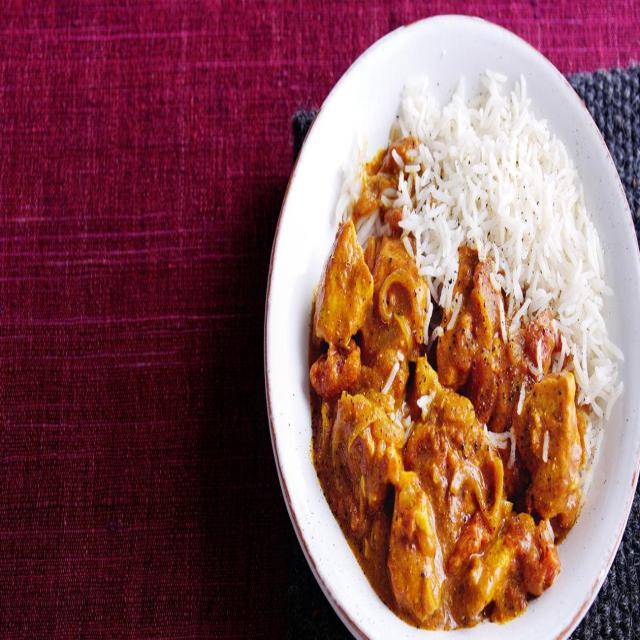chicken: (306, 214, 577, 604)
rice: (406, 81, 614, 312)
